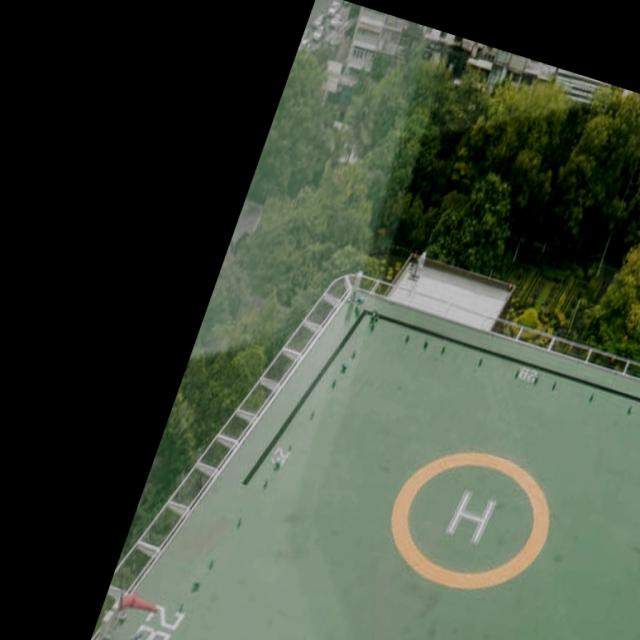helipad: (384, 447, 554, 592)
